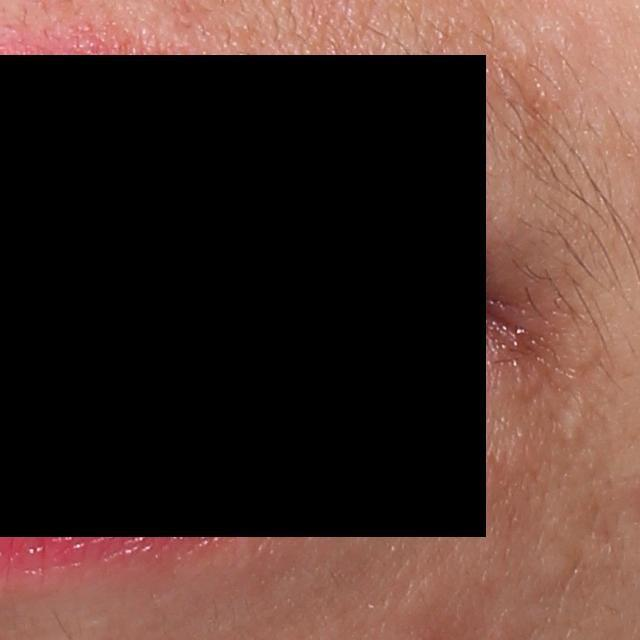hypertrophic_scar: (530, 544, 579, 592), (558, 402, 590, 443)
